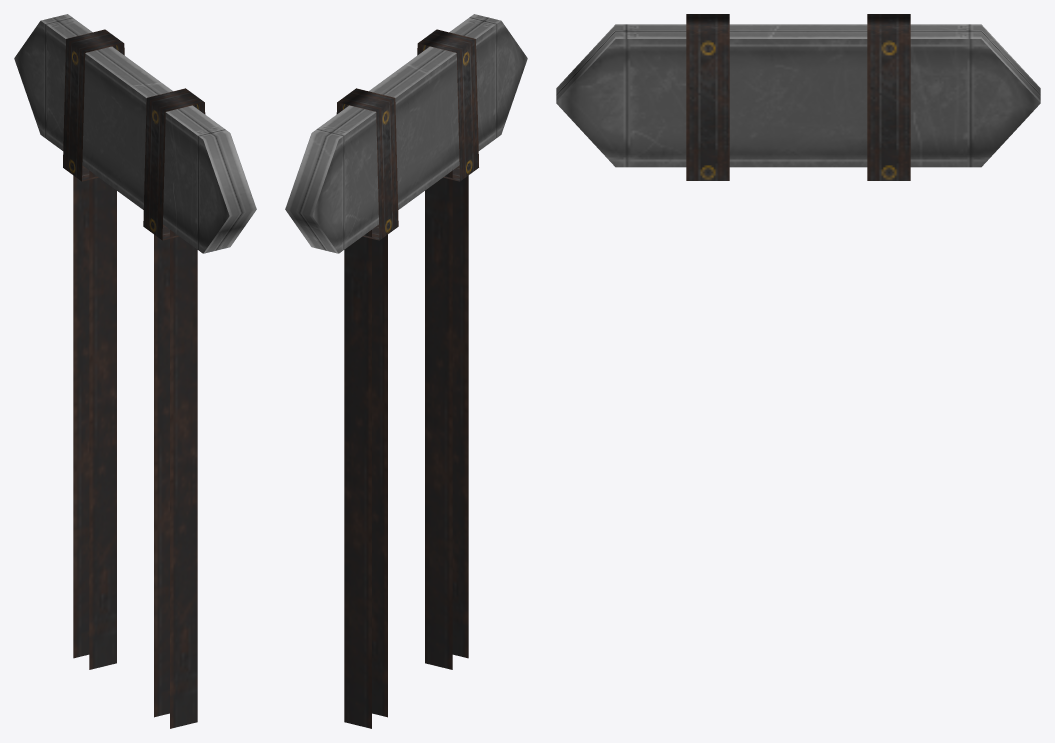
File: PIpe3_Connect1B_L2.fbx
3 renders of one model, left to right at view 1: azimuth 30°, elevation 25°; view 2: azimuth 150°, elevation 25°; view 3: azimuth 270°, elevation 25°, orthographic. The views are drawn at different scales.
Parts seen in each view (by area): view 1: PIpe3_Connect1B_L2; view 2: PIpe3_Connect1B_L2; view 3: PIpe3_Connect1B_L2.
Boxes of the visible parts, box(x1,y1,x2,y2) form: PIpe3_Connect1B_L2: box(14, 14, 256, 728); PIpe3_Connect1B_L2: box(285, 14, 527, 728); PIpe3_Connect1B_L2: box(556, 14, 1040, 180).
Size of the model in its own units: 5.45 by 70.74 by 44.59.
